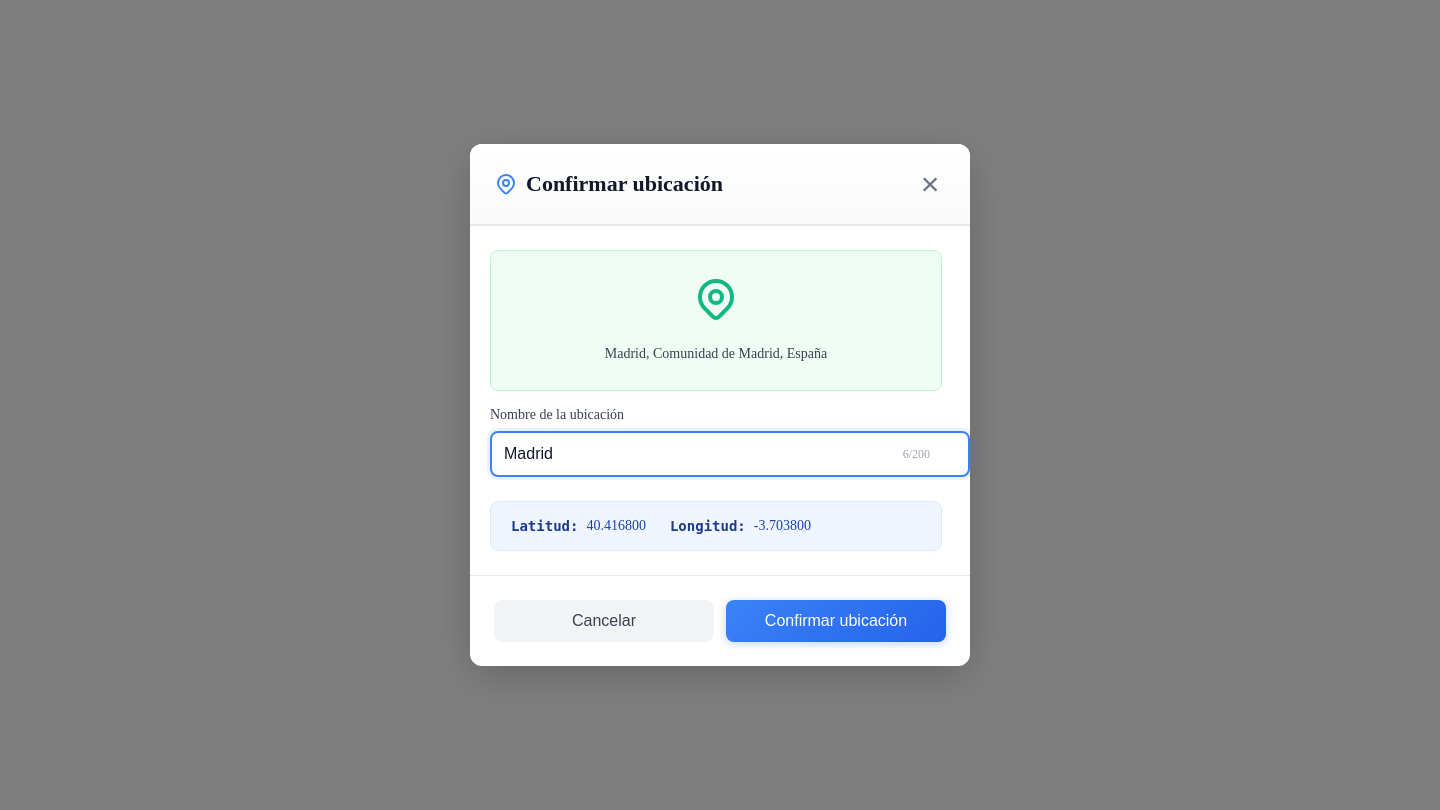
LocationConfirmModal - Name Editing (T035) › Name Validation › should disable confirm button when name is empty
Clear the name
Clear the field labelled "Nombre de la ubicación". click: (730, 454)
box: [490,431,970,477]
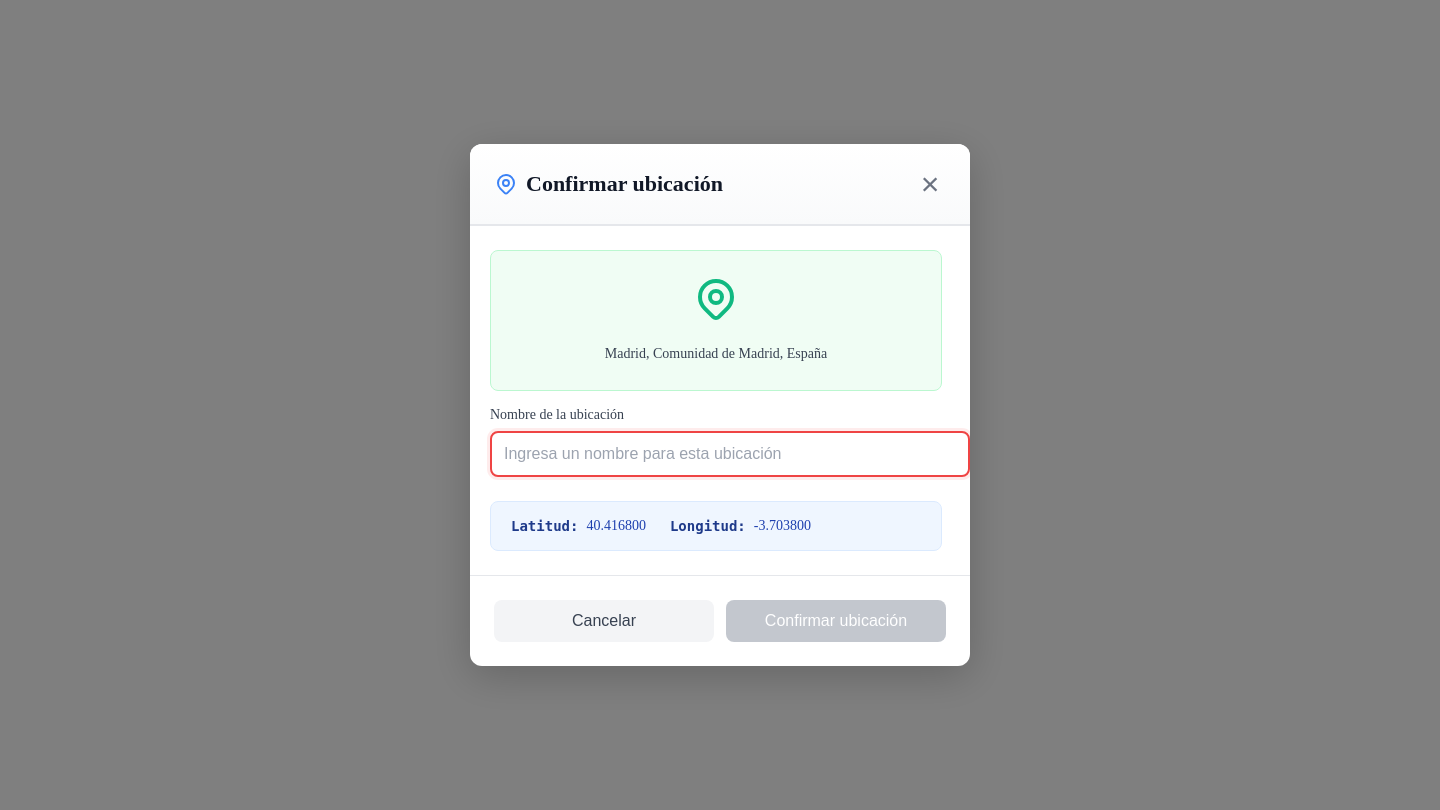
Result: the button "Confirmar ubicación" is disabled at [726,600,946,642]
